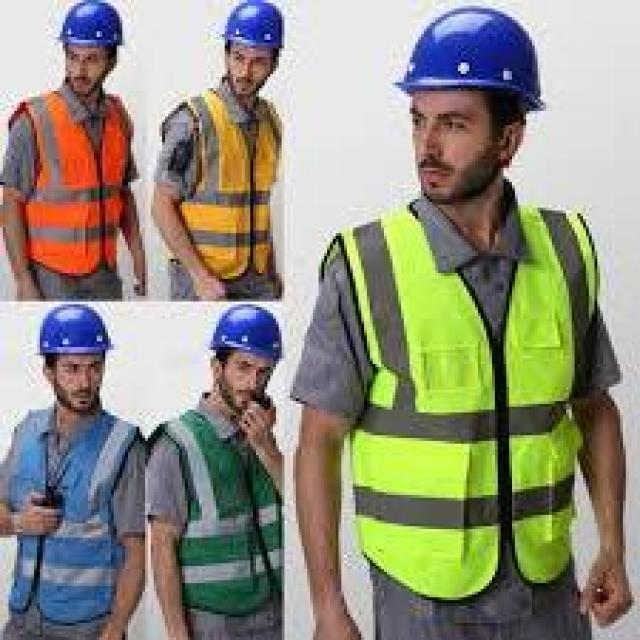Reflective-Jacket: (324, 187, 606, 608), (176, 85, 288, 293), (14, 85, 134, 279)
Safety-Helmet: (387, 3, 557, 119), (199, 299, 290, 364), (31, 302, 120, 358), (48, 0, 134, 54), (210, 0, 293, 54)
